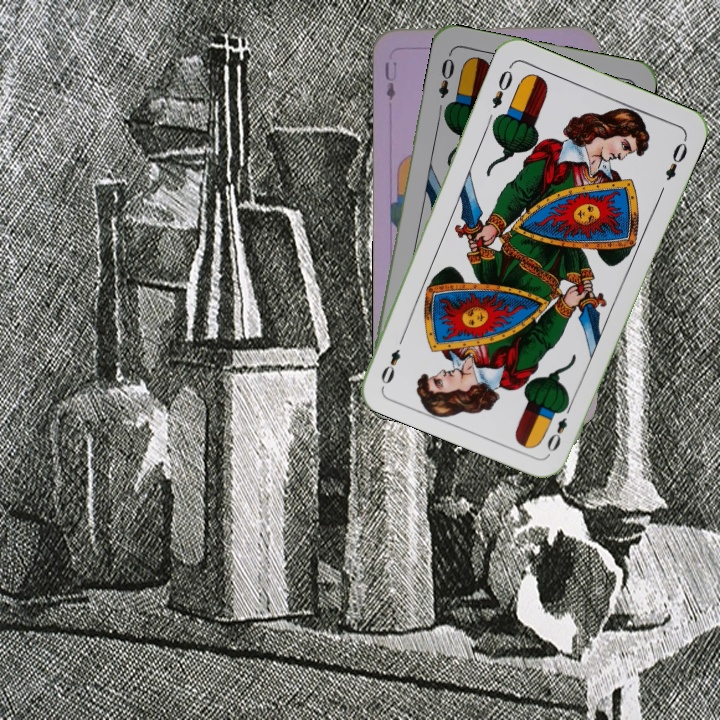EO: (543, 399, 575, 455), (487, 61, 516, 111), (434, 49, 457, 101)
EU: (381, 57, 400, 102)
